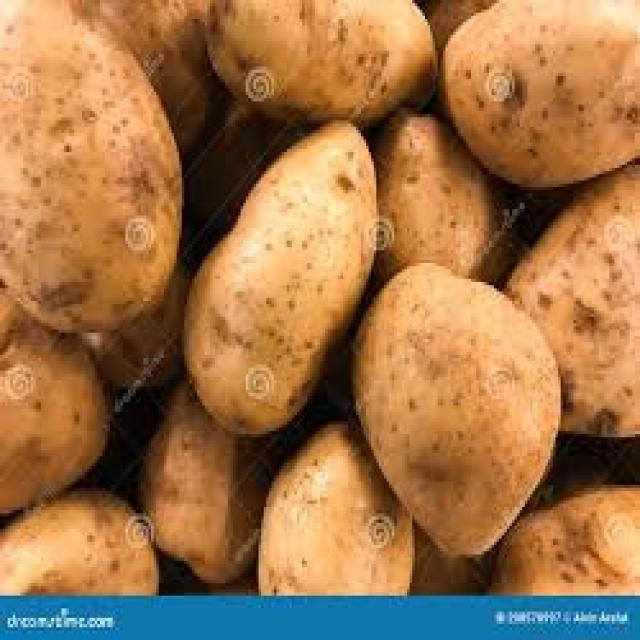Potato: (182, 99, 423, 439), (332, 269, 556, 589)
